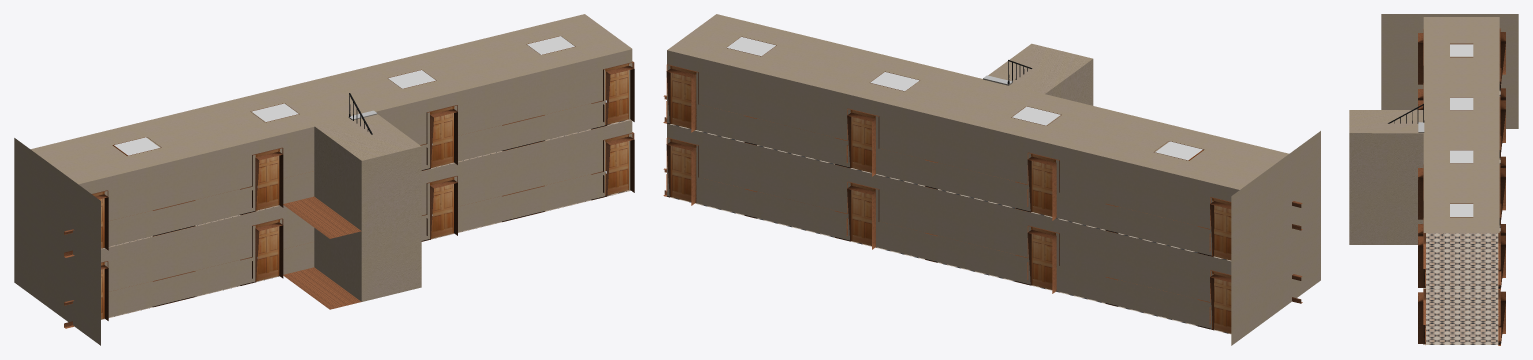
Rendered from Hallway5.fbx.
3 renders of one model, left to right at view 1: azimuth 30°, elevation 25°; view 2: azimuth 150°, elevation 25°; view 3: azimuth 270°, elevation 25°, orthographic. The views are drawn at different scales.
Parts seen in each view (by area): view 1: Walls.002, Walls, Ceiling.001, Walls.001, Walls.003, Door Frame.003, Door Frame.001, Doors.001, Doors, Lights.001; view 2: Walls.002, Walls, Ceiling.001, Walls.003, Doors.001, Doors, Walls.001, Door Frame, Door Frame.002, Lights.001, Floor.001, Floor; view 3: Ceiling.001, Walls.001, Walls.003, Floor.001, Floor, Door Frame.002, Lights.001, Door Frame.003, Door Frame, Door Frame.001, Lights Frame.001, 1:39:6.002.
Part boxes in pixels (x1,y1,x2,y2): Walls.002: [78, 49, 632, 246]; Walls: [101, 120, 632, 317]; Ceiling.001: [31, 14, 631, 184]; Walls.001: [314, 114, 421, 301]; Walls.003: [14, 138, 100, 345]; Door Frame.003: [64, 61, 634, 257]; Door Frame.001: [64, 132, 634, 328]; Doors.001: [93, 64, 628, 248]; Doors: [101, 134, 628, 319]; Lights.001: [114, 36, 574, 155]; Walls.002: [667, 50, 1239, 255]; Walls: [667, 124, 1231, 328]; Ceiling.001: [667, 14, 1288, 189]; Walls.003: [1231, 131, 1320, 345]; Doors.001: [670, 66, 1231, 260]; Doors: [670, 139, 1231, 333]; Walls.001: [988, 43, 1093, 105]; Door Frame: [663, 137, 1231, 329]; Door Frame.002: [663, 64, 1231, 256]; Lights.001: [726, 37, 1202, 160]; Floor.001: [670, 124, 1230, 261]; Floor: [670, 197, 1230, 334]; Ceiling.001: [1423, 17, 1499, 232]; Walls.001: [1349, 110, 1423, 244]; Walls.003: [1381, 14, 1518, 128]; Floor.001: [1423, 90, 1500, 288]; Floor: [1423, 289, 1498, 344]; Door Frame.002: [1498, 28, 1505, 289]; Lights.001: [1450, 44, 1473, 216]; Door Frame.003: [1418, 29, 1425, 288]; Door Frame: [1498, 88, 1505, 345]; Door Frame.001: [1418, 89, 1425, 344]; Lights Frame.001: [1450, 43, 1472, 217]; 1:39:6.002: [1388, 104, 1424, 123].
Size of the model in its own units: 155 by 43.08 by 50.24.
